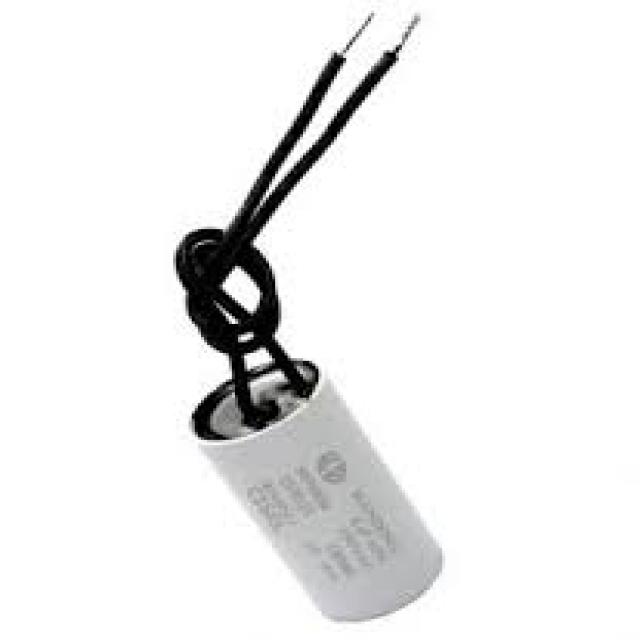Capacitor: (192, 358, 445, 624)
